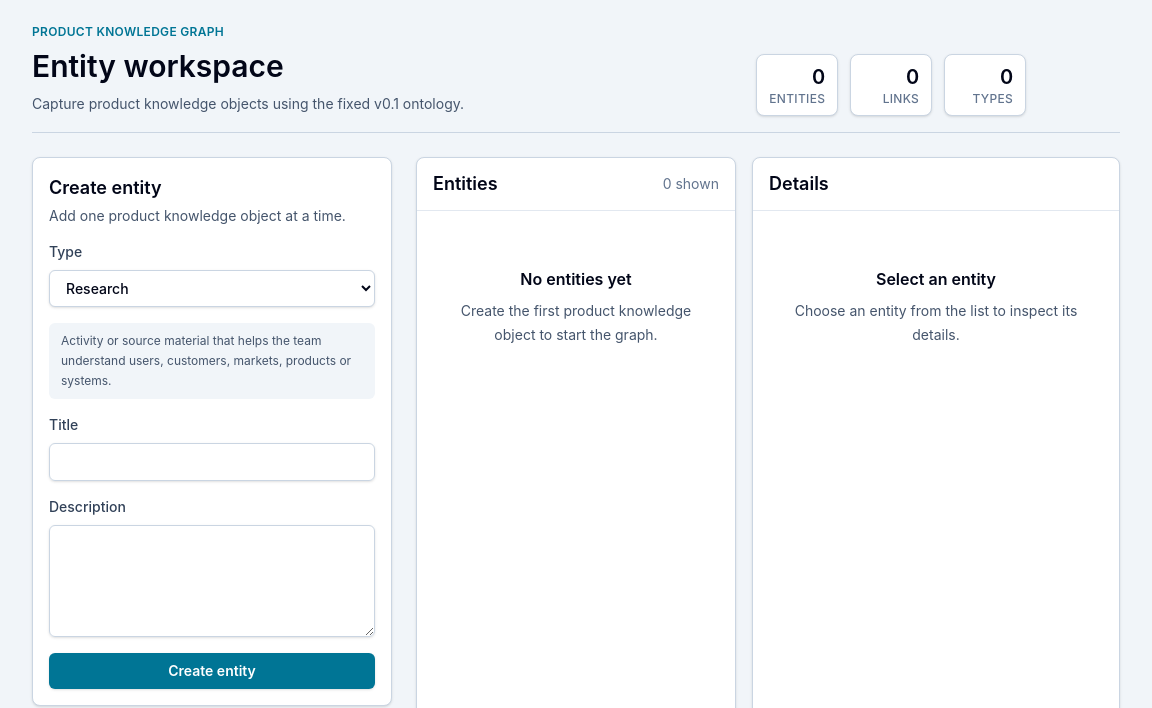
Test case: App › validates required title and description fields
Click the button "Create entity": (212, 671) [49,653,375,689]
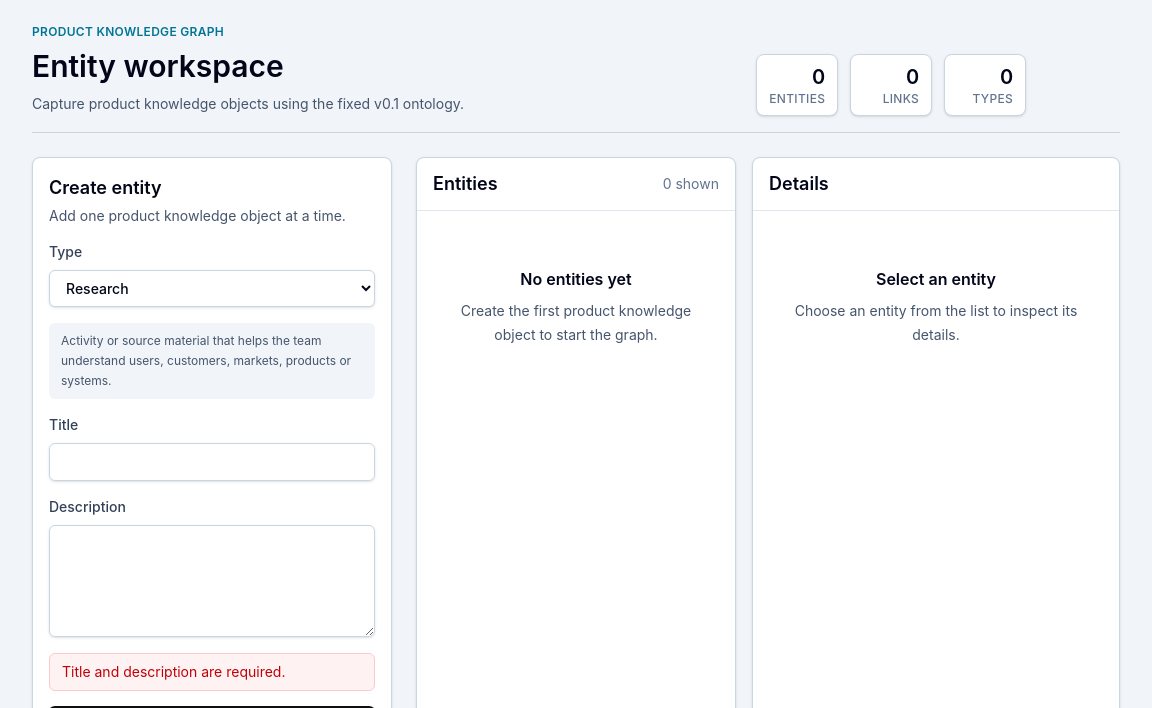
Expected: the text "Title and description are required." is shown, [49,653,375,691]
